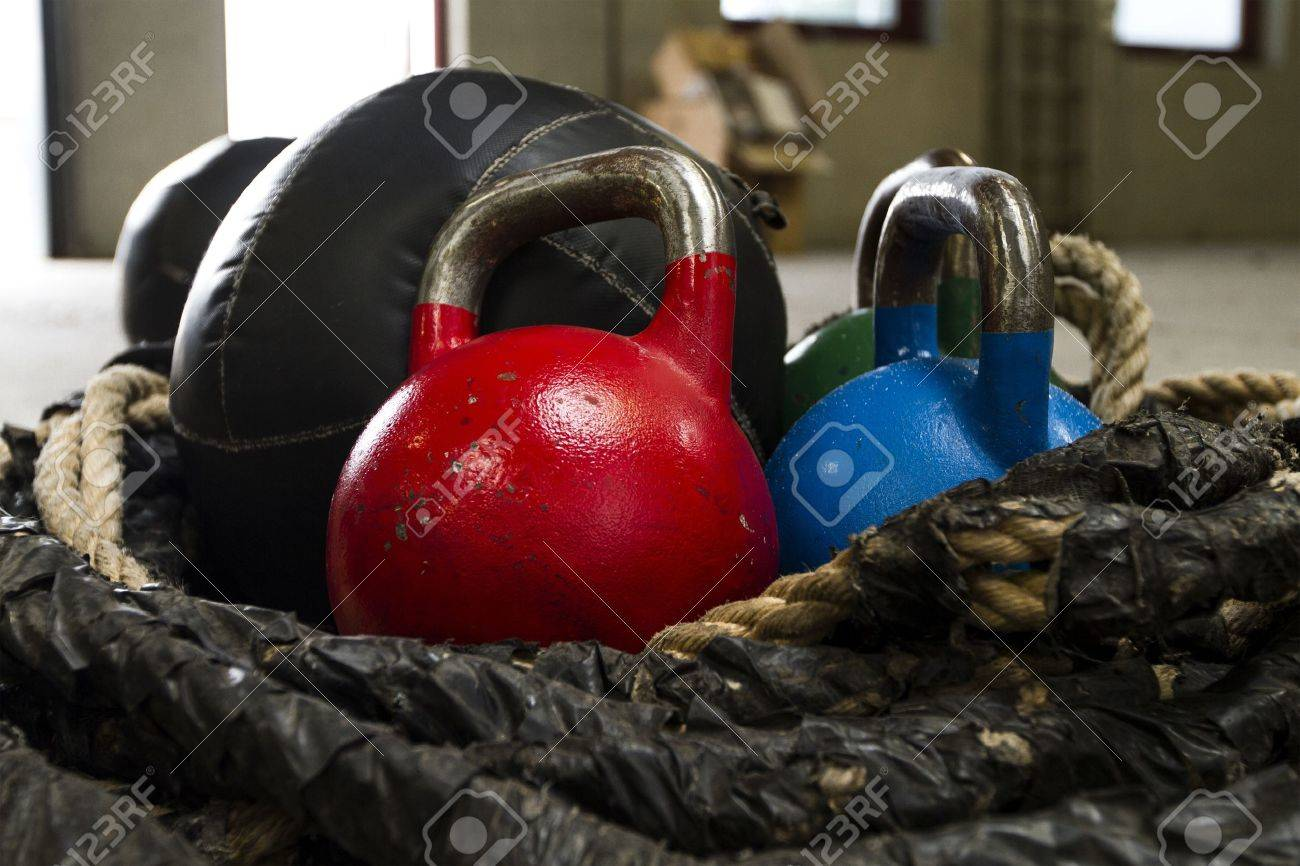blue ball: (769, 357, 1113, 573)
red ball: (320, 325, 774, 655)
